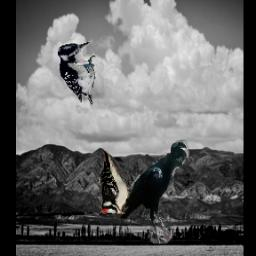Crow: (120, 141, 189, 245)
Woodpecker: (57, 42, 97, 107), (99, 150, 130, 214)
